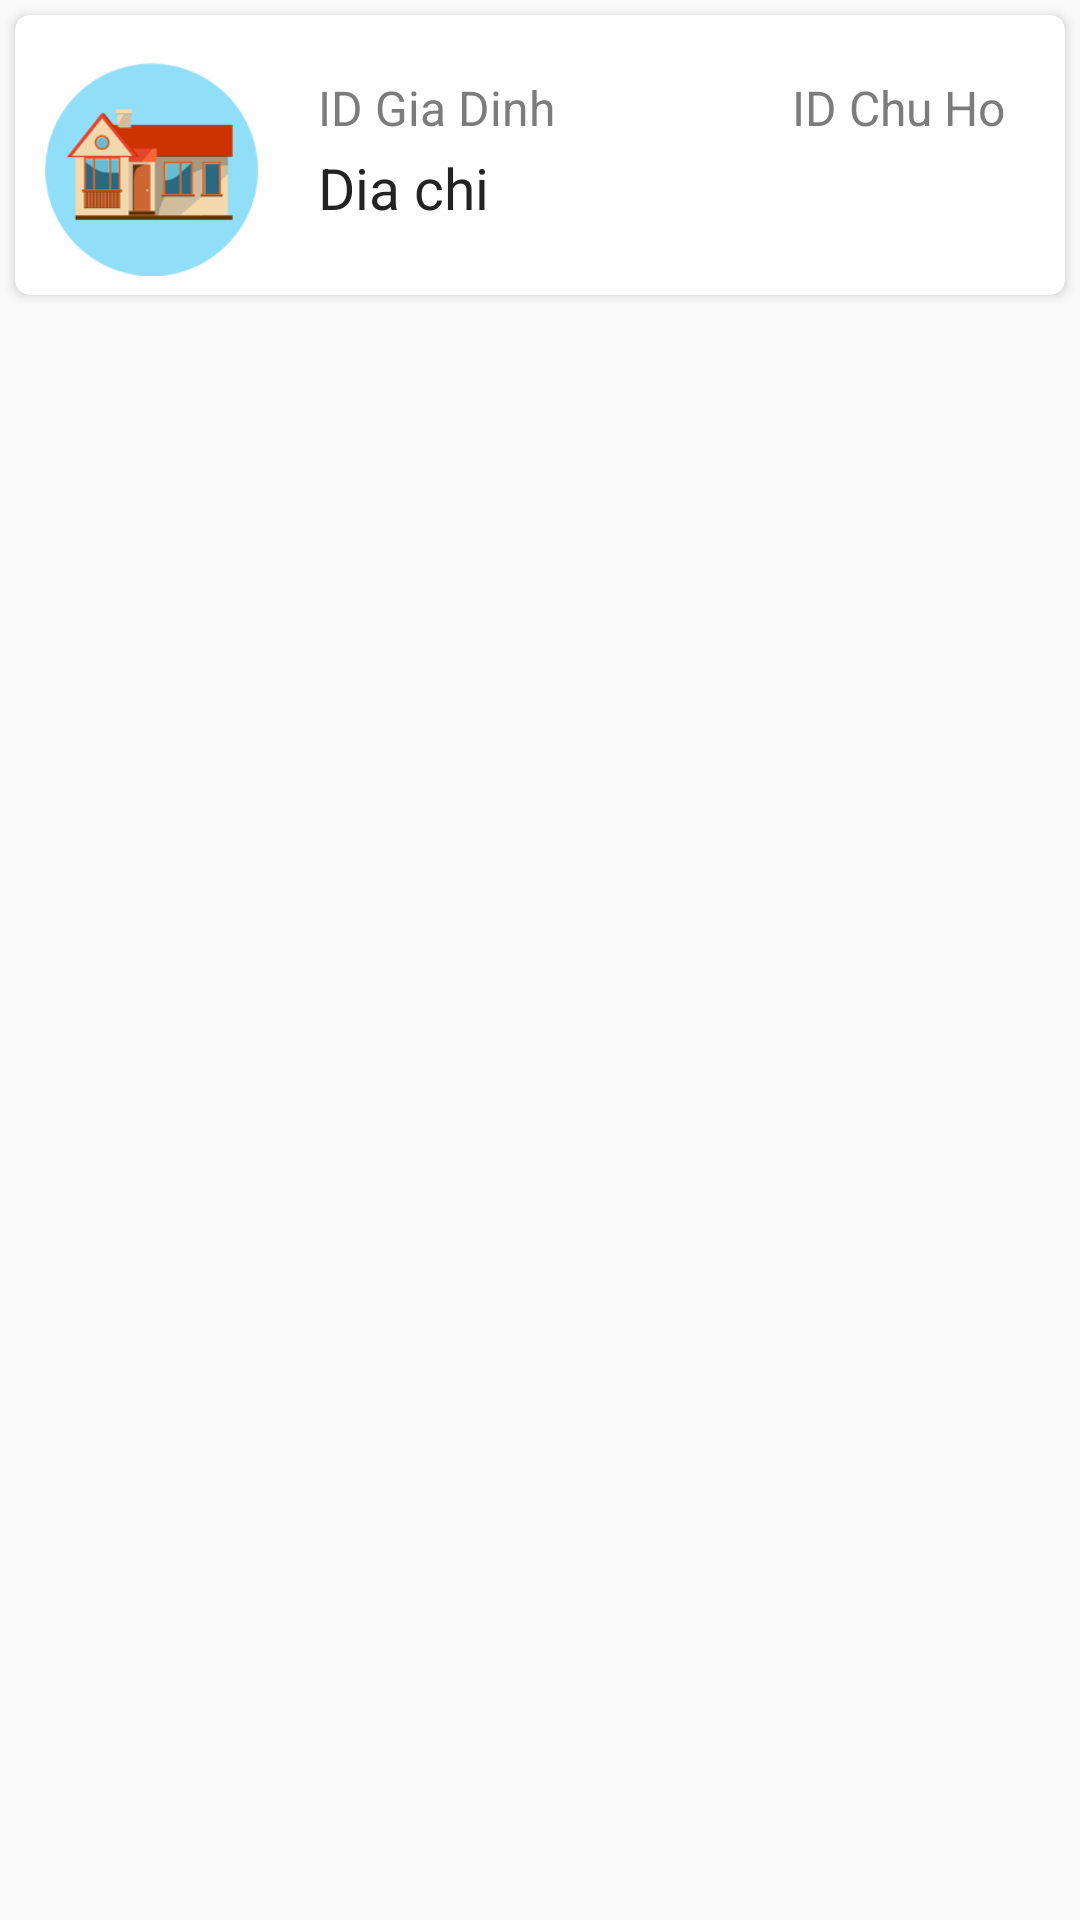

Locate icon controls on the screen. Image size 1080 x 1920, boxes as Rect(x1, y1, x2, y2).
house: Rect(45, 63, 258, 276)
